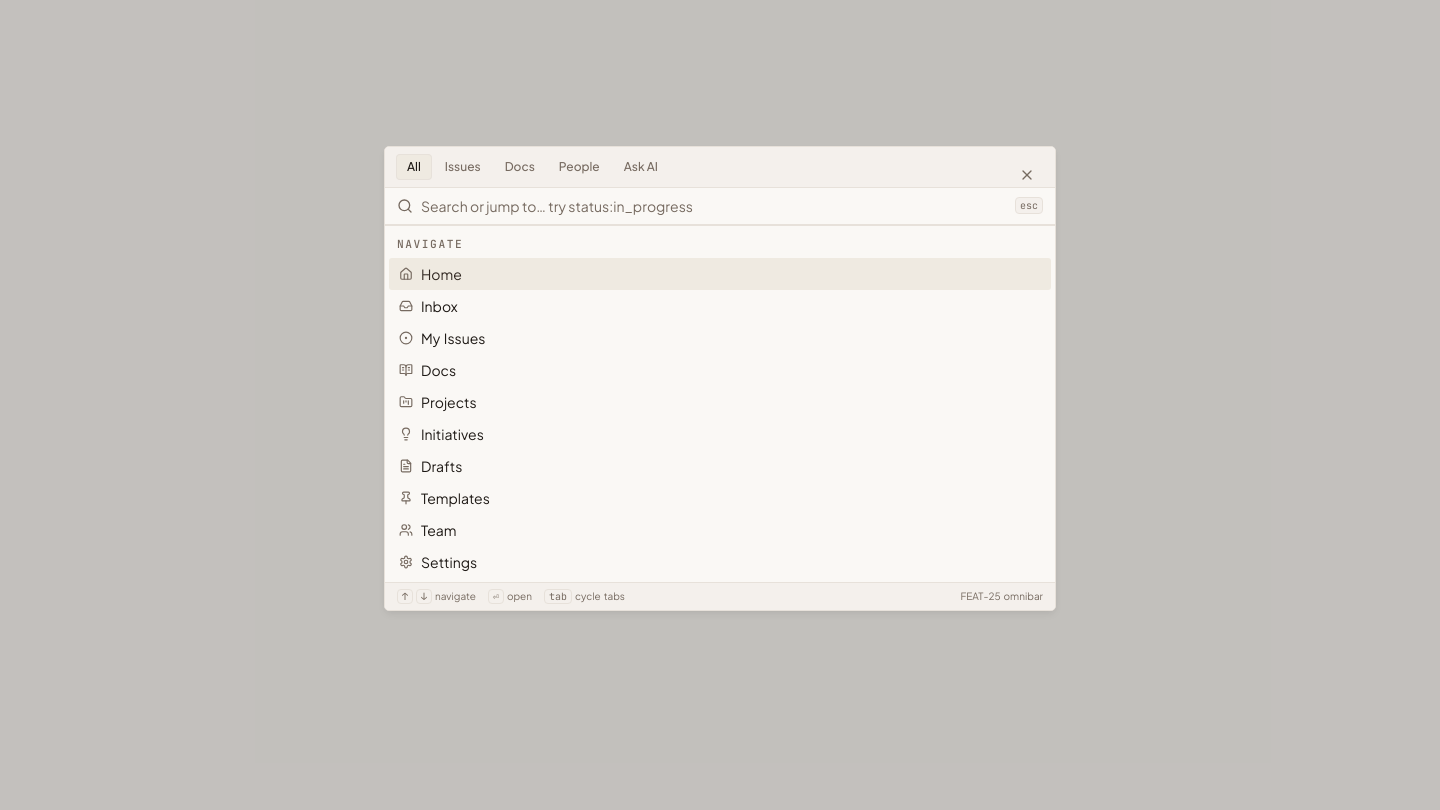
CommandPalette (FEAT-25 omnibar) › parses status: into a removable chip and strips it from free-text
In the field named "Command palette query": x=714, y=206 x1=421 y1=196 x2=1007 y2=216, type "bug status:in_progress"
Wait 150 ms
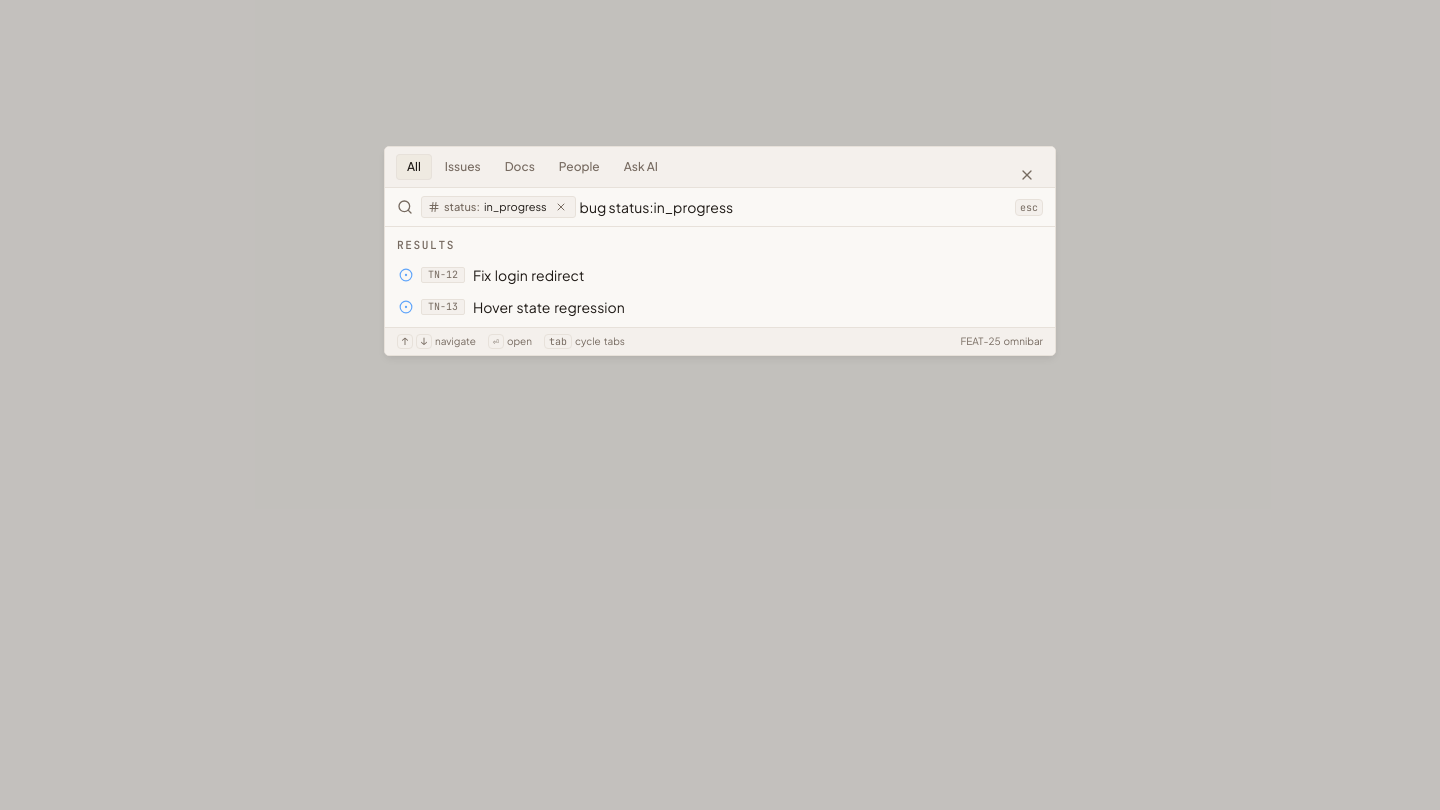
Now the element with test id "facet-chip-status" shows "in_progress", box x1=484 y1=200 x2=547 y2=213
Click the button named "Remove status filter": x=561, y=207 x1=553 y1=199 x2=569 y2=215
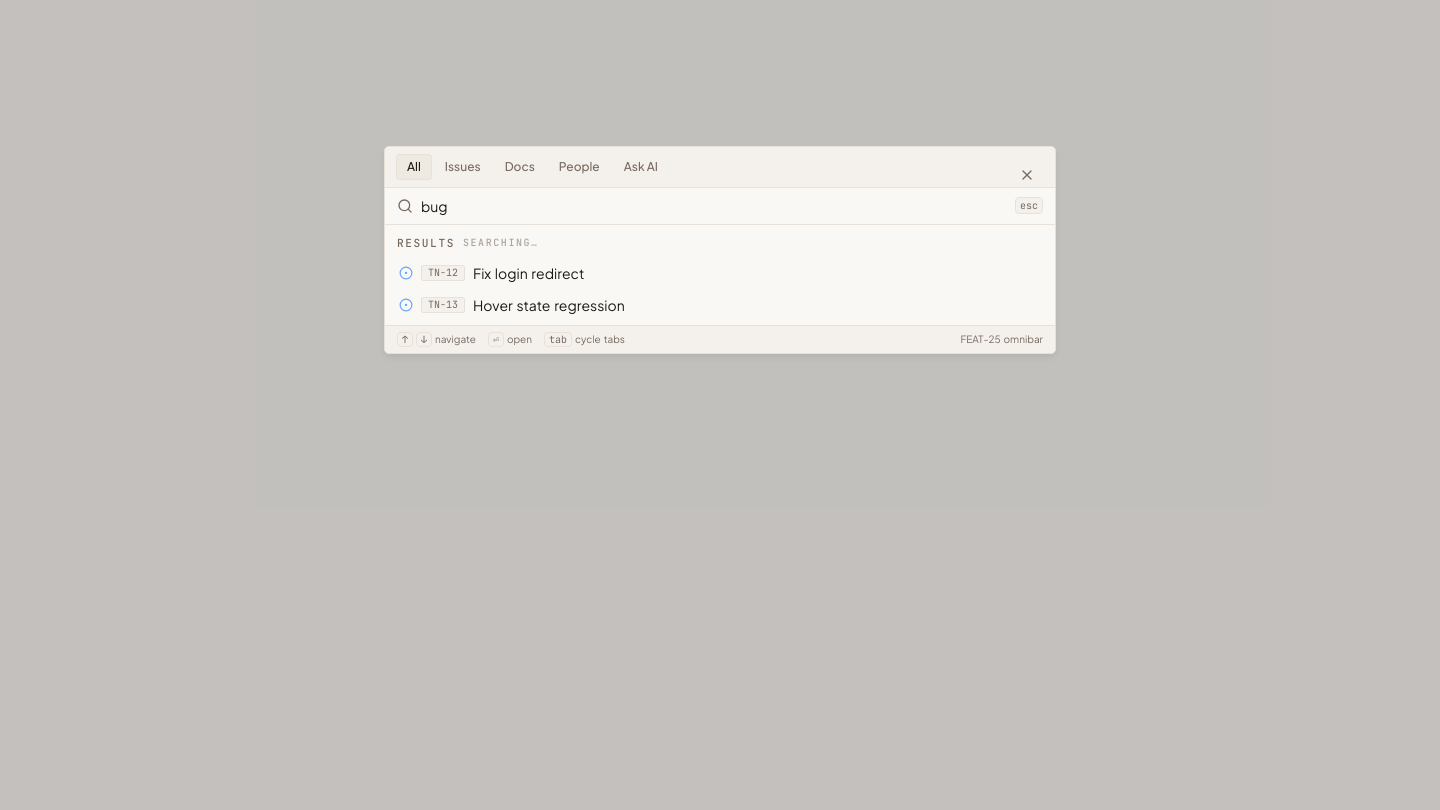
Now the element with test id "facet-chip-status" is gone
